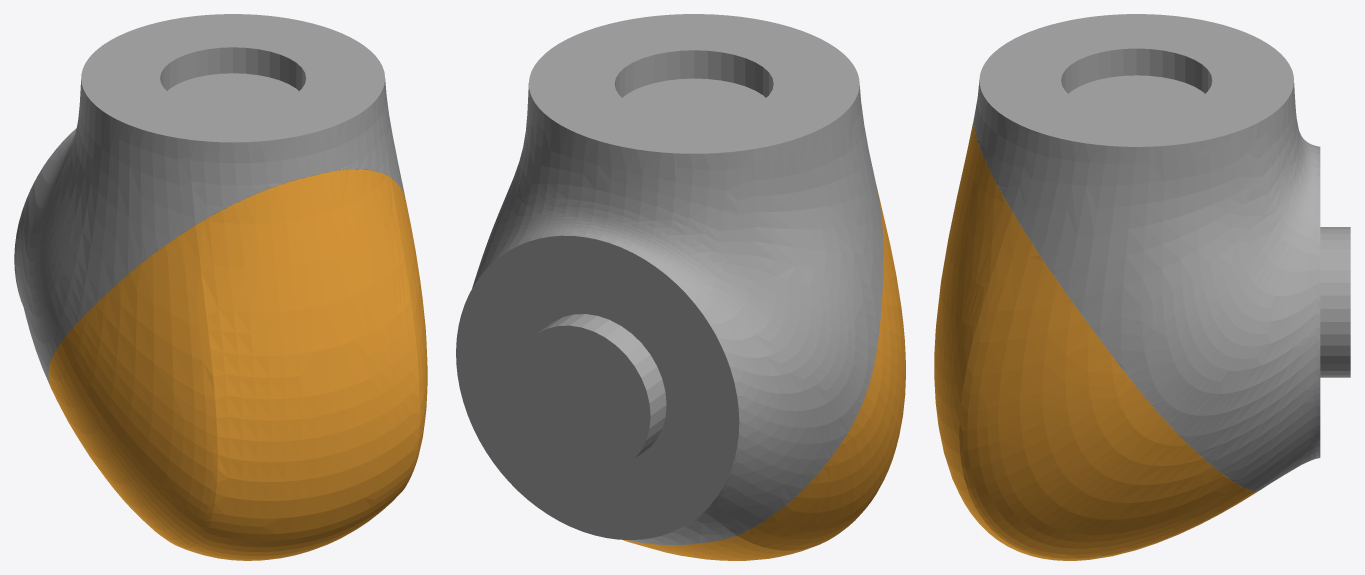
3 views of the same model, side by side, from view 1: azimuth 30°, elevation 25°; view 2: azimuth 150°, elevation 25°; view 3: azimuth 270°, elevation 25° (orthographic). The views are drawn at different scales.
Visible parts, largest first — view 1: link6_0, link6_1; view 2: link6_1, link6_0; view 3: link6_1, link6_0.
Boxes of the visible parts, box(x1,y1,x2,y2) form: link6_0: box(48, 169, 427, 560); link6_1: box(14, 14, 404, 386); link6_1: box(456, 14, 883, 545); link6_0: box(623, 188, 905, 560); link6_1: box(973, 14, 1350, 491); link6_0: box(934, 119, 1259, 560).
Bounding box in the file's own units: 0.1323 × 0.1674 × 0.1376.
